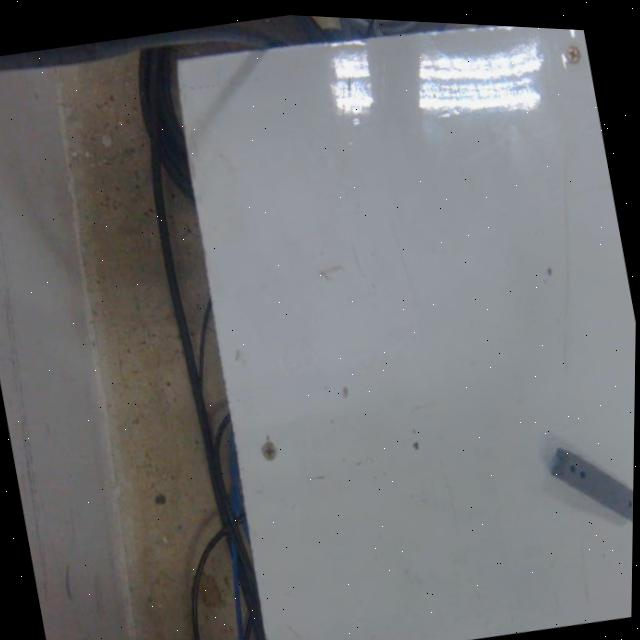grey: (545, 434, 634, 537)
head: (623, 497, 633, 510)
